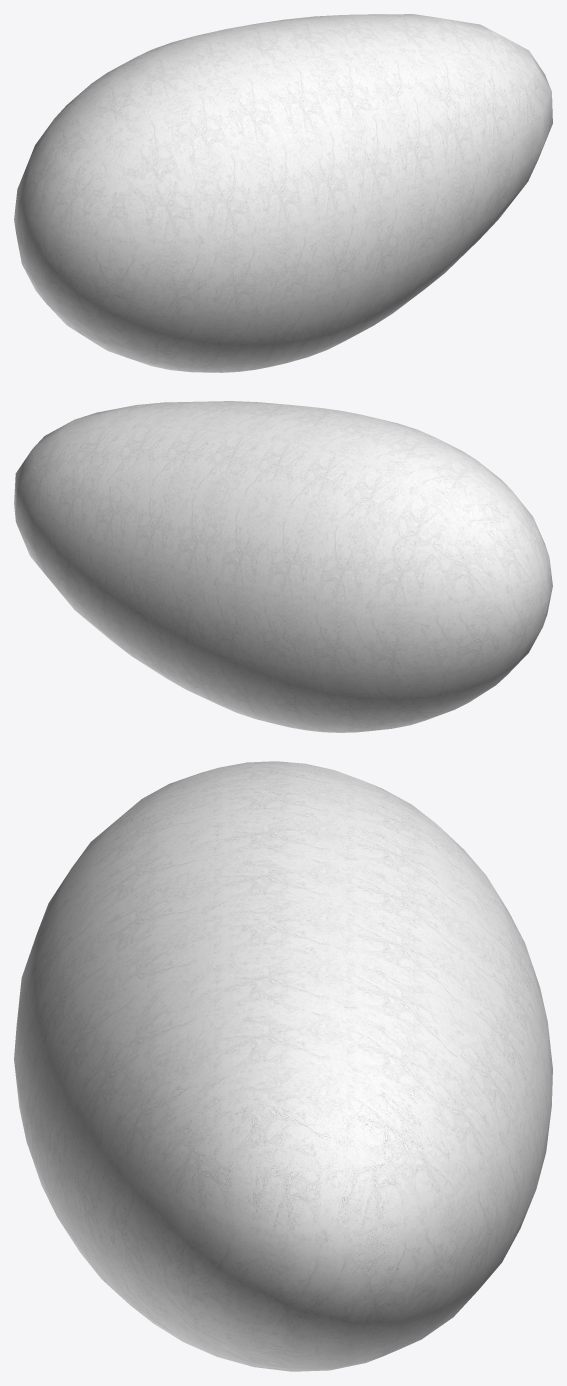
Rendered from seeds.glb.
3 views of the same model, one above another, from view 1: azimuth 30°, elevation 25°; view 2: azimuth 150°, elevation 25°; view 3: azimuth 270°, elevation 25° (orthographic). The views are drawn at different scales.
Visible parts, largest first — view 1: Sphere; view 2: Sphere; view 3: Sphere.
Part boxes in pixels (bbox=[...]): Sphere: bbox=[14, 14, 552, 372]; Sphere: bbox=[14, 401, 552, 732]; Sphere: bbox=[14, 761, 552, 1371].
Size of the model in its own units: 3.61 by 2.02 by 2.03.
Materials: 1 (1 with a texture image).
